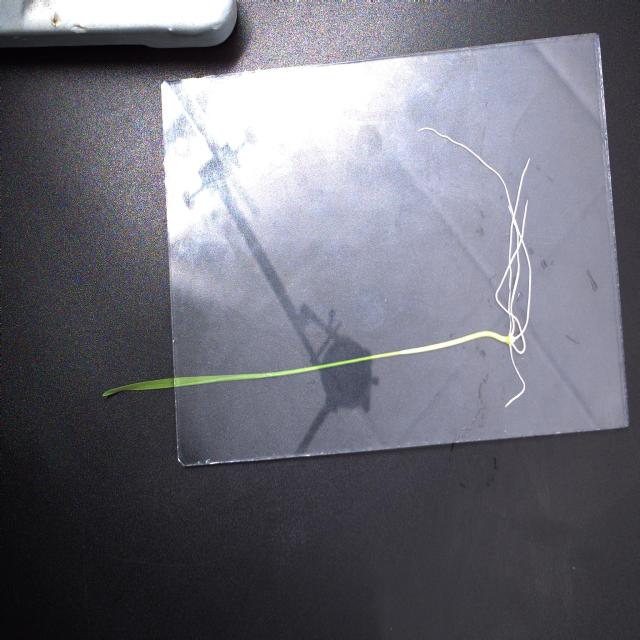leaf: (104, 369, 254, 398)
root: (415, 125, 534, 409)
stem: (255, 329, 503, 380)
